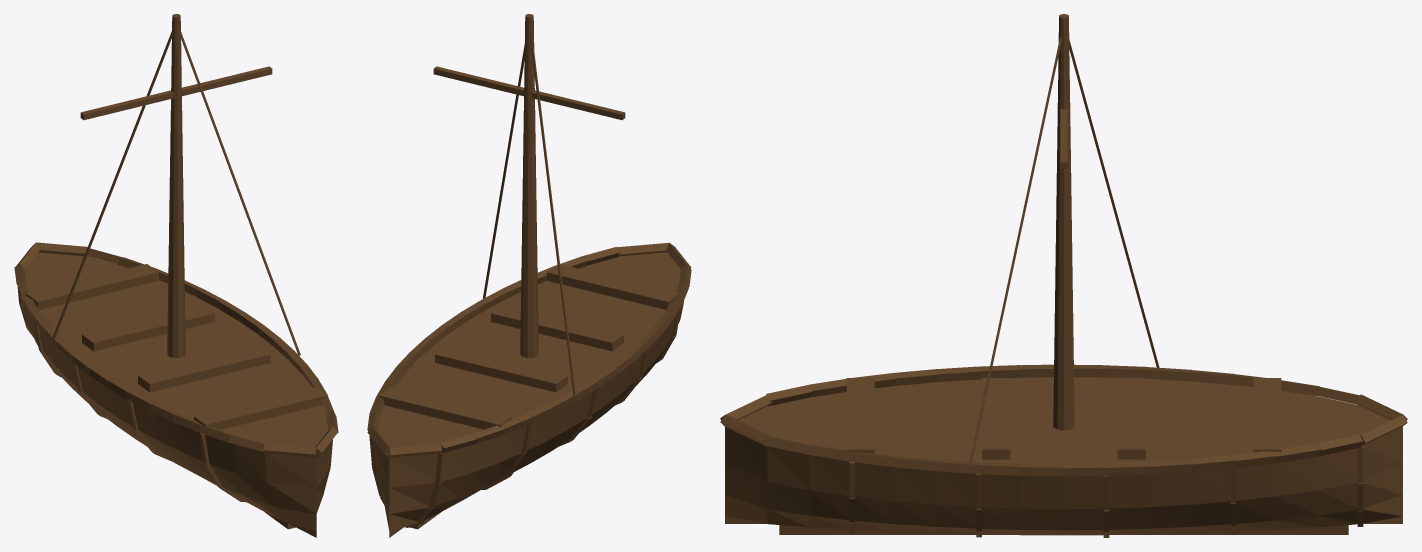
Rendered from MooredCutter.obj.
The picture shows the model from 3 angles, left to right: view 1: azimuth 30°, elevation 25°; view 2: azimuth 150°, elevation 25°; view 3: azimuth 270°, elevation 25°; orthographic projection. The views are drawn at different scales.
Parts seen in each view (by area): view 1: wood, trim, iron; view 2: wood, trim, iron; view 3: wood, trim, iron.
Boxes of the visible parts, x1,y1,x2,y2 form: wood: (17,14,332,537); trim: (14,242,338,457); iron: (52,31,300,355); wood: (369,14,683,537); trim: (367,242,691,457); iron: (483,33,575,396); wood: (725,14,1402,537); trim: (720,364,1407,476); iron: (968,36,1159,467).
Bounding box in the file's own units: 2.8 × 6.04 × 7.31.
